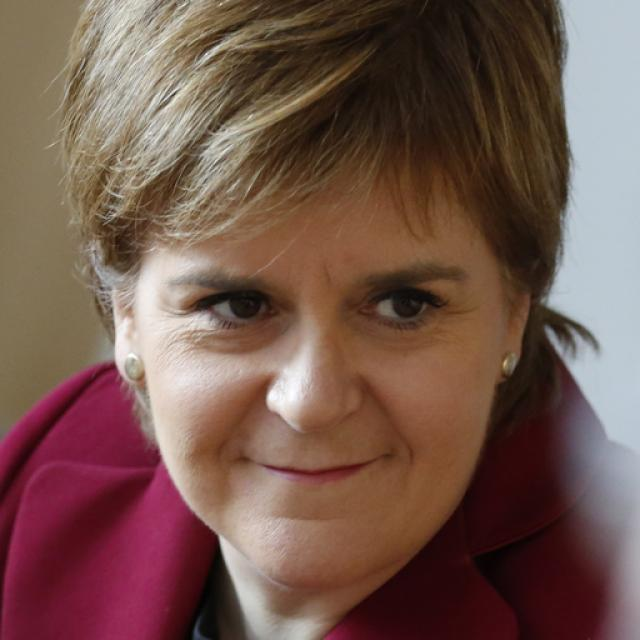0_rostro_limpio: (113, 0, 529, 586)
